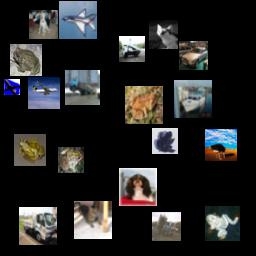airplane: (59, 1, 97, 39), (28, 77, 60, 109), (4, 79, 20, 95)
automobile: (179, 41, 208, 70)
bird: (205, 129, 237, 161)
cat: (74, 201, 112, 239), (149, 20, 178, 49)
dog: (119, 168, 157, 206), (29, 10, 58, 39)
frog: (125, 86, 163, 124), (205, 206, 240, 241), (10, 44, 42, 76), (14, 134, 46, 166), (152, 128, 178, 154), (58, 147, 84, 173)
ship: (174, 80, 212, 118)
truck: (19, 207, 57, 245), (65, 70, 100, 105), (152, 212, 181, 241), (119, 36, 145, 62)
